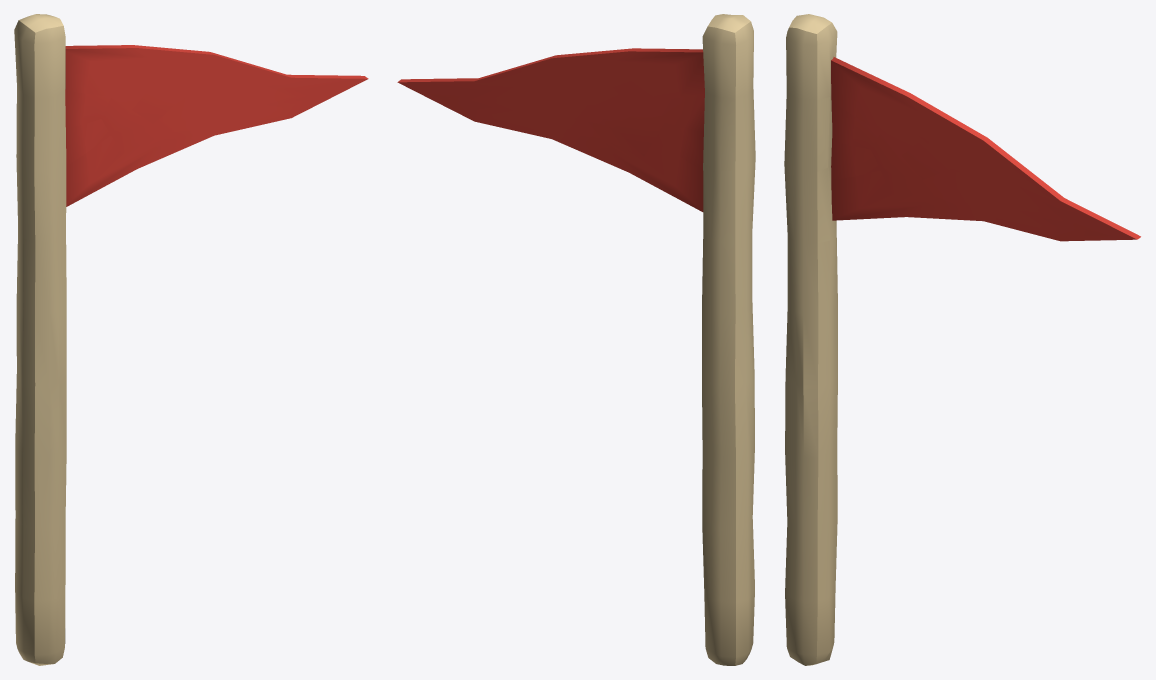
File: shore_paper_flag.glb
The picture shows the model from 3 angles, left to right: view 1: azimuth 30°, elevation 25°; view 2: azimuth 150°, elevation 25°; view 3: azimuth 330°, elevation 25°; orthographic projection.
Parts seen in each view (by area): view 1: shore_paper_flag; view 2: shore_paper_flag; view 3: shore_paper_flag.
Part boxes in pixels (left/top/right/bottom): shore_paper_flag: left=14, top=14, right=368, bottom=665; shore_paper_flag: left=397, top=14, right=755, bottom=665; shore_paper_flag: left=784, top=14, right=1140, bottom=665.
Size of the model in its own units: 2.94 by 5.21 by 0.3699.
